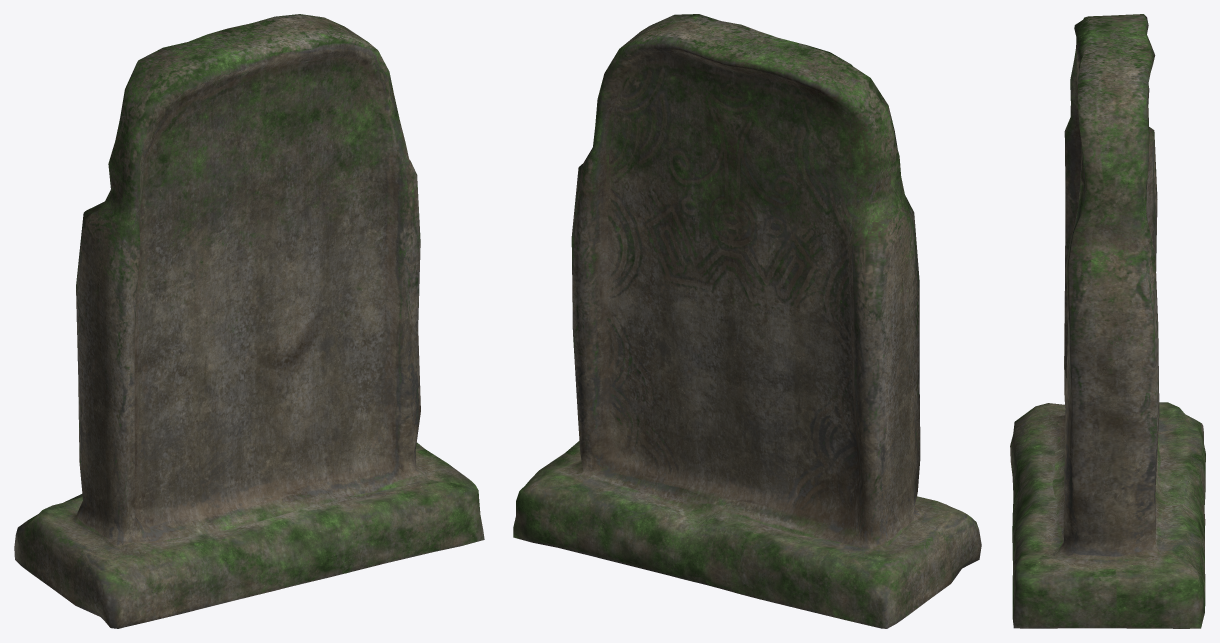
The model's file is lapida.obj.
3 renders of one model, left to right at view 1: azimuth 30°, elevation 25°; view 2: azimuth 150°, elevation 25°; view 3: azimuth 270°, elevation 25°, orthographic. The views are drawn at different scales.
Parts seen in each view (by area): view 1: LP_tip_c_LP_tip_c_001; view 2: LP_tip_c_LP_tip_c_001; view 3: LP_tip_c_LP_tip_c_001.
Part boxes in pixels (<box>): LP_tip_c_LP_tip_c_001: <box>14,14,484,628</box>; LP_tip_c_LP_tip_c_001: <box>513,14,981,628</box>; LP_tip_c_LP_tip_c_001: <box>1010,14,1205,628</box>.
Size of the model in its own units: 15.03 by 19.38 by 6.99.
1 material, 1 textured.
